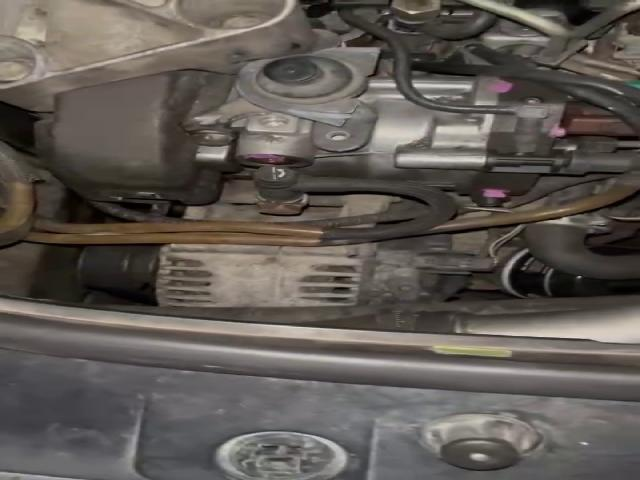alternator: (155, 233, 491, 308)
high_pressure_pump: (234, 72, 581, 208)
